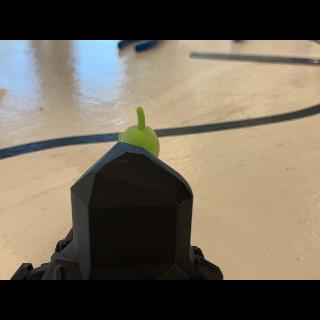teletubby: (119, 107, 160, 157)
